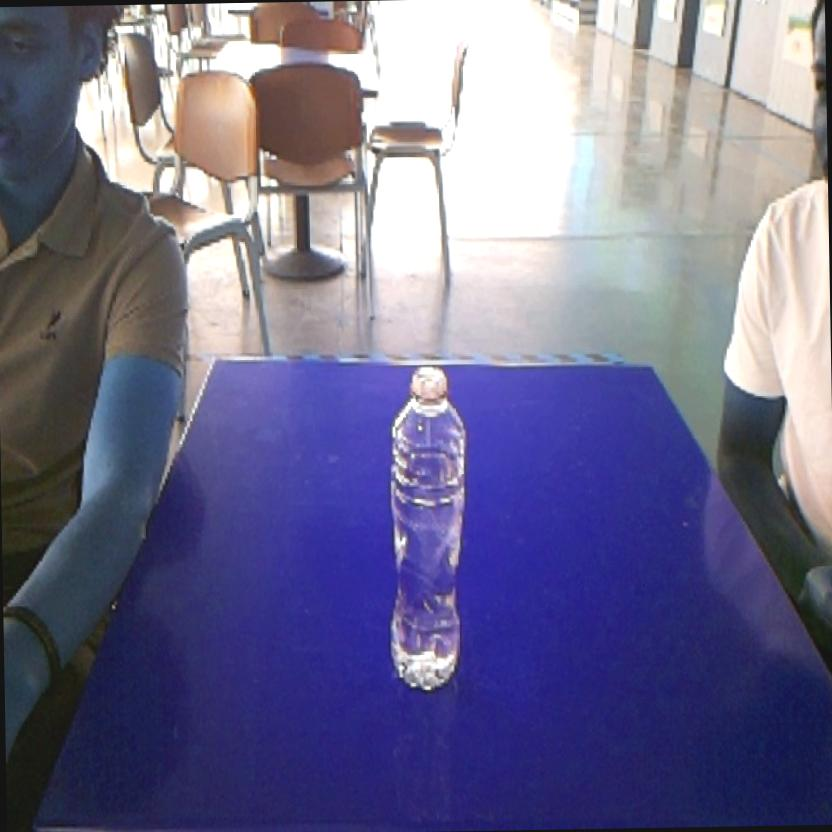no_cap: (379, 358, 477, 698)
